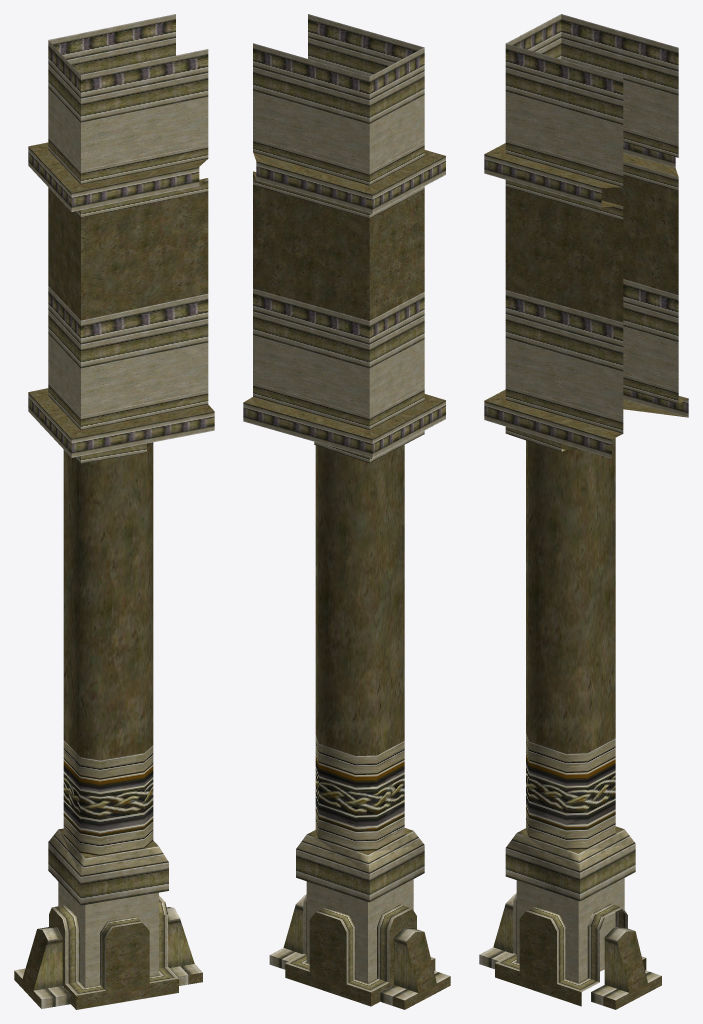
File: CH09_SMAUG_PLAYSURFACE_LAIR120.fbx
3 views of the same model, side by side, from view 1: azimuth 30°, elevation 25°; view 2: azimuth 150°, elevation 25°; view 3: azimuth 330°, elevation 25° (orthographic).
Parts seen in each view (by area): view 1: CH09_SMAUG_PLAYSURFACE_LAIR120; view 2: CH09_SMAUG_PLAYSURFACE_LAIR120; view 3: CH09_SMAUG_PLAYSURFACE_LAIR120.
Boxes of the visible parts, box(x1,y1,x2,y2) form: CH09_SMAUG_PLAYSURFACE_LAIR120: box(14, 14, 214, 1009); CH09_SMAUG_PLAYSURFACE_LAIR120: box(243, 14, 450, 1009); CH09_SMAUG_PLAYSURFACE_LAIR120: box(479, 14, 688, 1009).
Bounding box in the file's own units: 51267 × 271667 × 35128.
7 materials, 7 textured.
